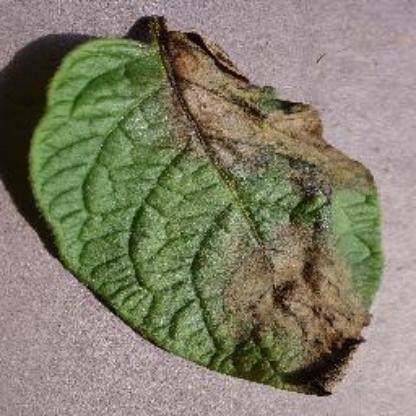Late-Blight: (25, 9, 393, 399)
